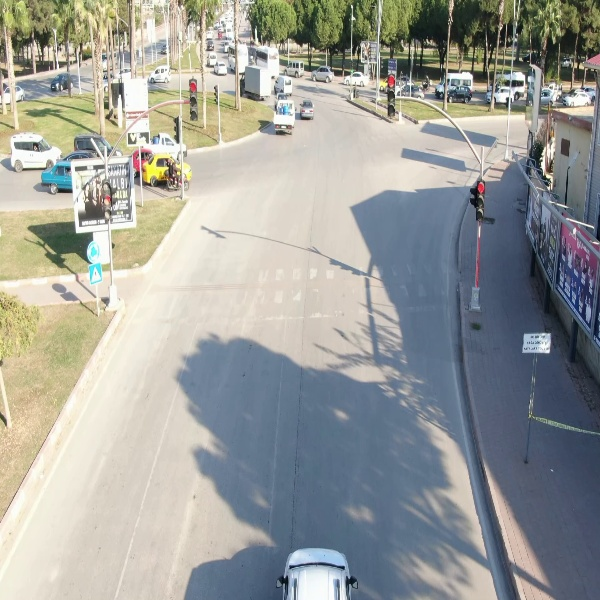car: (5, 132, 65, 172), (49, 70, 81, 93), (308, 65, 336, 86), (562, 88, 594, 105), (148, 65, 175, 85), (298, 96, 316, 124), (342, 68, 367, 87), (282, 60, 305, 79)
